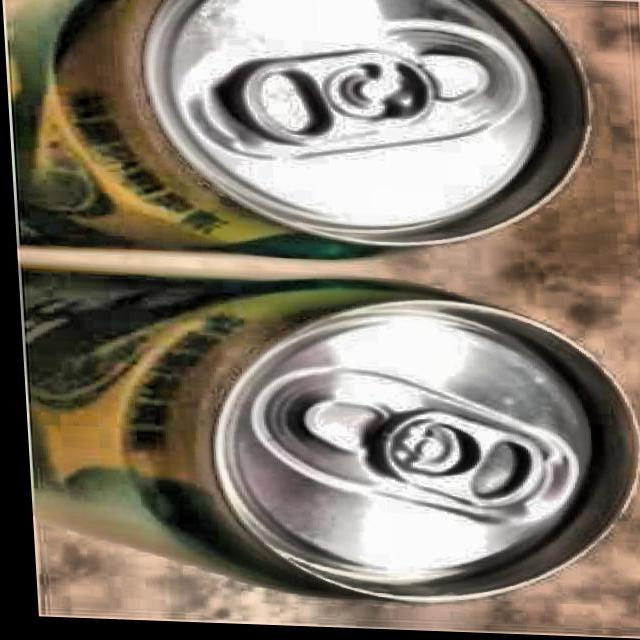litter: (13, 262, 640, 620), (2, 0, 604, 275)
